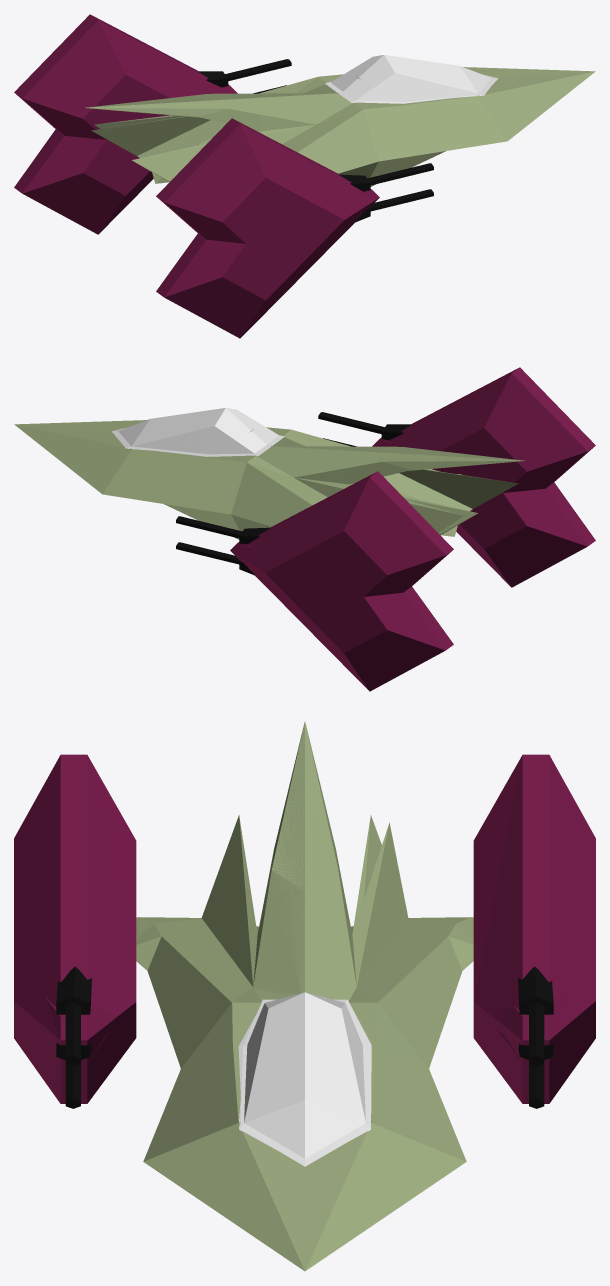
File: Nave jugador con aceleador cerrado 1.fbx
3 views of the same model, one above another, from view 1: azimuth 30°, elevation 25°; view 2: azimuth 150°, elevation 25°; view 3: azimuth 270°, elevation 25° (orthographic). The views are drawn at different scales.
Visible parts, largest first — view 1: Cube.001, Cuerpo nave, NaveJugador, NaveJugador.001, Cilindro.004, Vidrio; view 2: Cube.001, NaveJugador, Cuerpo nave, NaveJugador.001, Cilindro.004, Vidrio; view 3: Cuerpo nave, Cube.001, NaveJugador, NaveJugador.001, Cilindro.004, Vidrio.
Boxes of the visible parts, x1,y1,x2,y2 form: Cube.001: [14, 14, 379, 338]; Cuerpo nave: [84, 72, 590, 185]; NaveJugador: [91, 55, 595, 186]; NaveJugador.001: [22, 20, 379, 322]; Cilindro.004: [198, 59, 433, 222]; Vidrio: [325, 74, 497, 102]; Cube.001: [230, 368, 593, 691]; NaveJugador: [14, 408, 523, 536]; Cuerpo nave: [16, 420, 525, 539]; NaveJugador.001: [230, 367, 595, 687]; Cilindro.004: [176, 412, 411, 575]; Vidrio: [112, 427, 283, 456]; Cuerpo nave: [136, 721, 473, 1271]; Cube.001: [14, 754, 595, 1101]; NaveJugador: [136, 728, 473, 1271]; NaveJugador.001: [14, 755, 595, 1103]; Cilindro.004: [56, 966, 553, 1108]; Vidrio: [240, 999, 371, 1166].
Size of the model in its own units: 1322 by 529 by 799.
